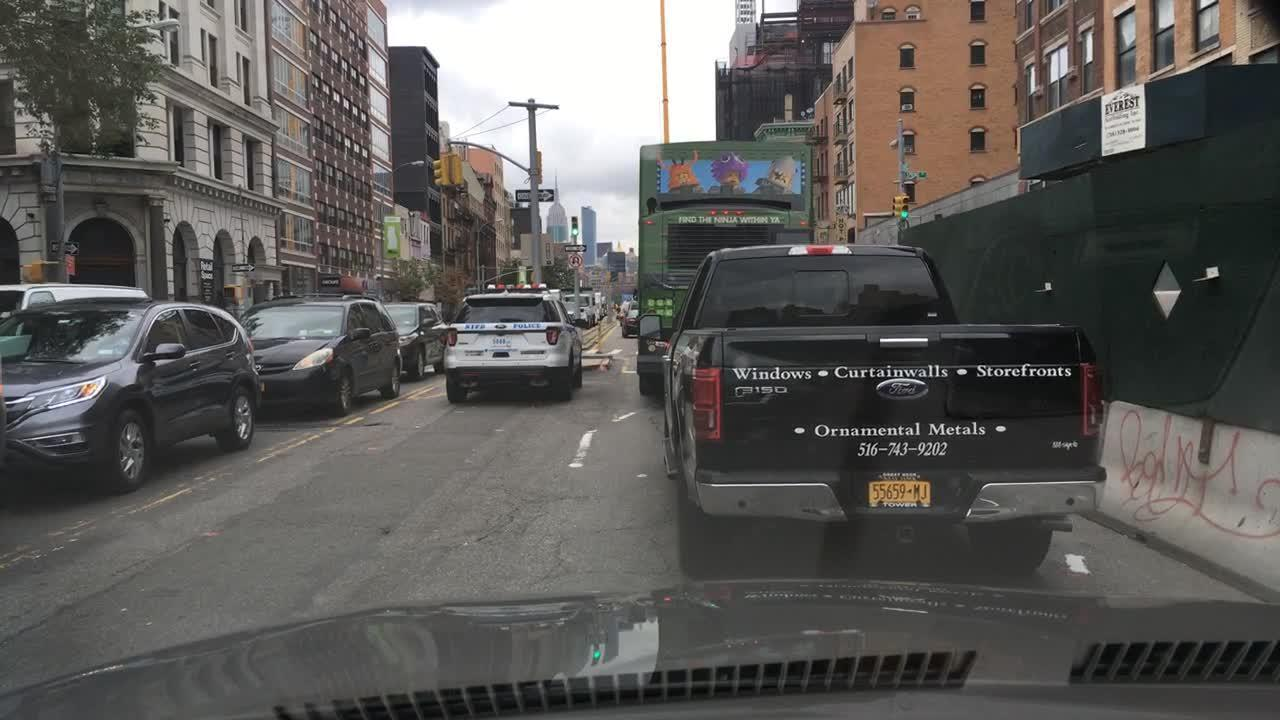ford: (878, 371, 932, 403)
